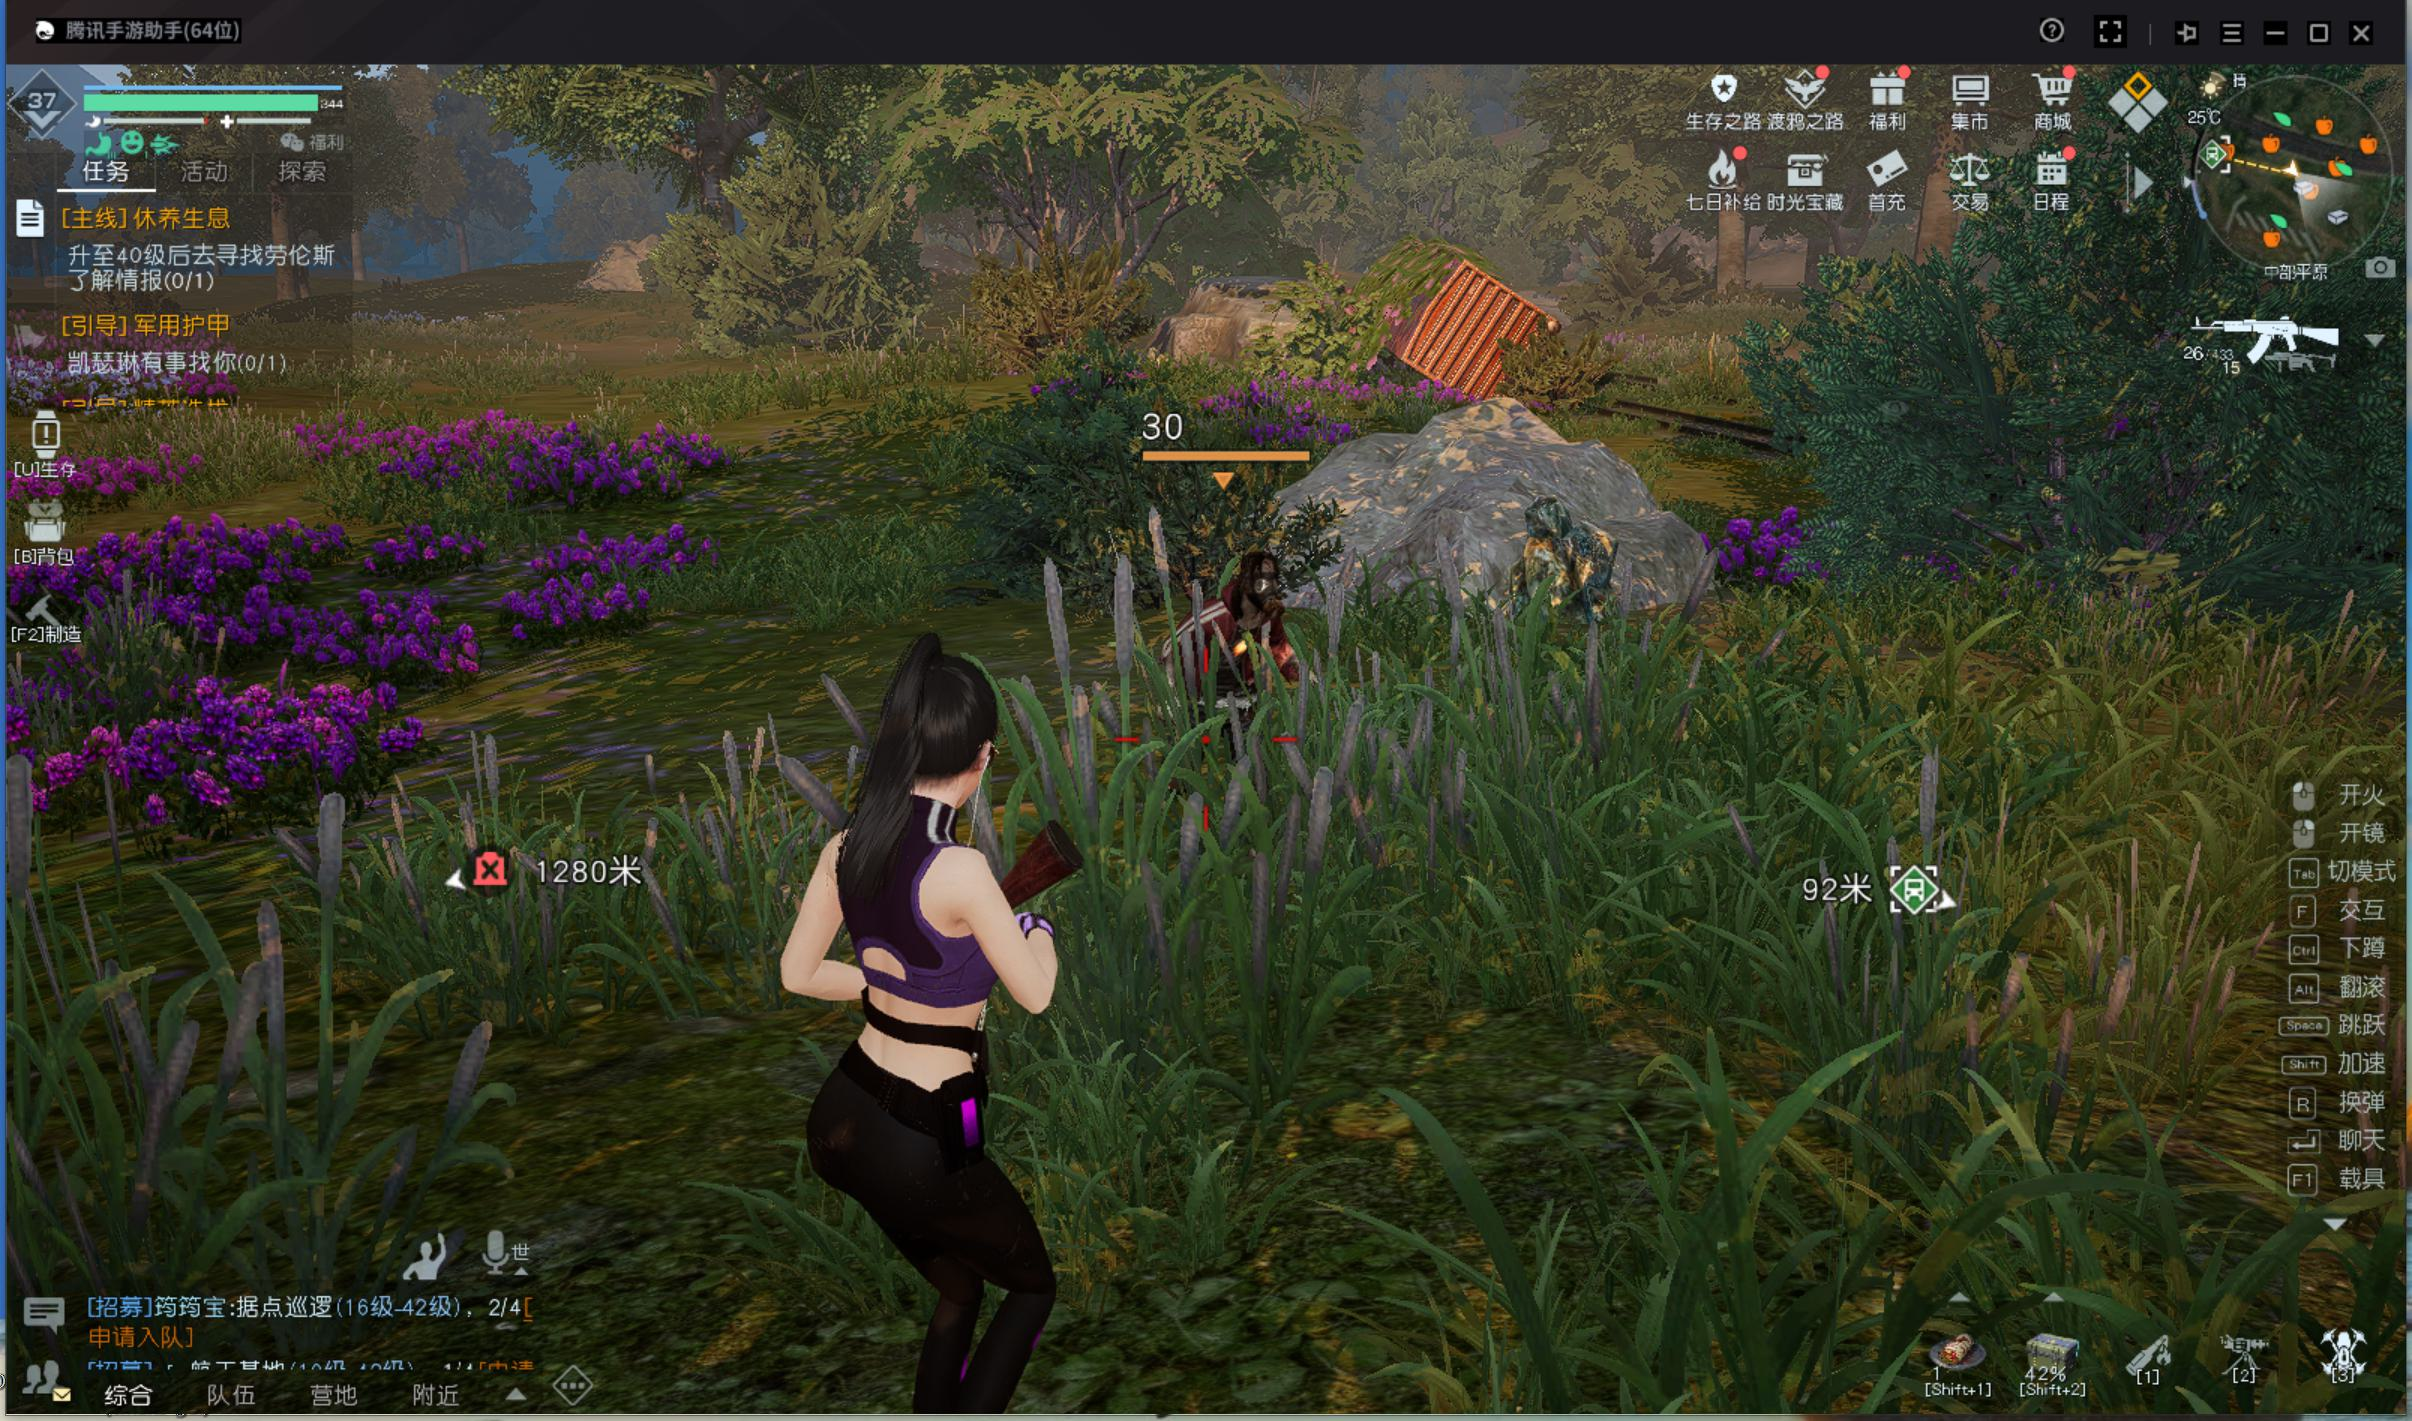stone: (1482, 489, 1637, 658)
tree: (1913, 142, 1955, 333)
